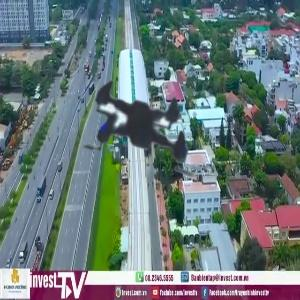drone: (35, 21, 246, 232)
